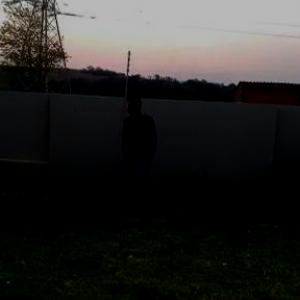follow: (121, 90, 160, 220)
